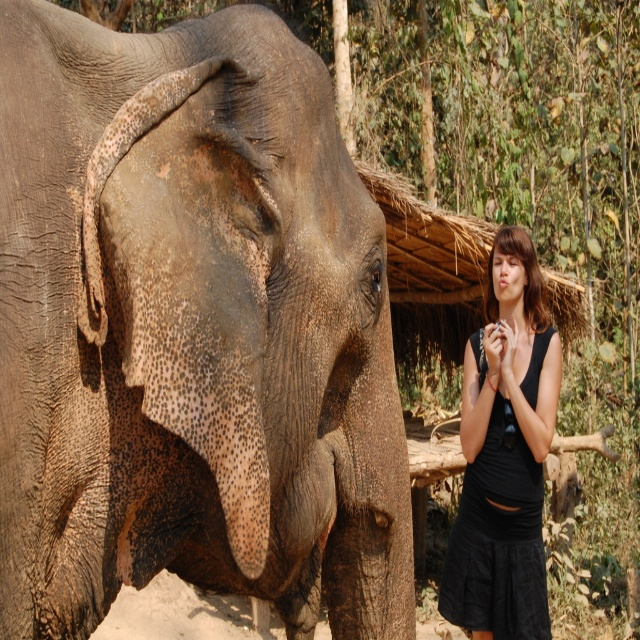Elephant: (1, 0, 416, 640)
